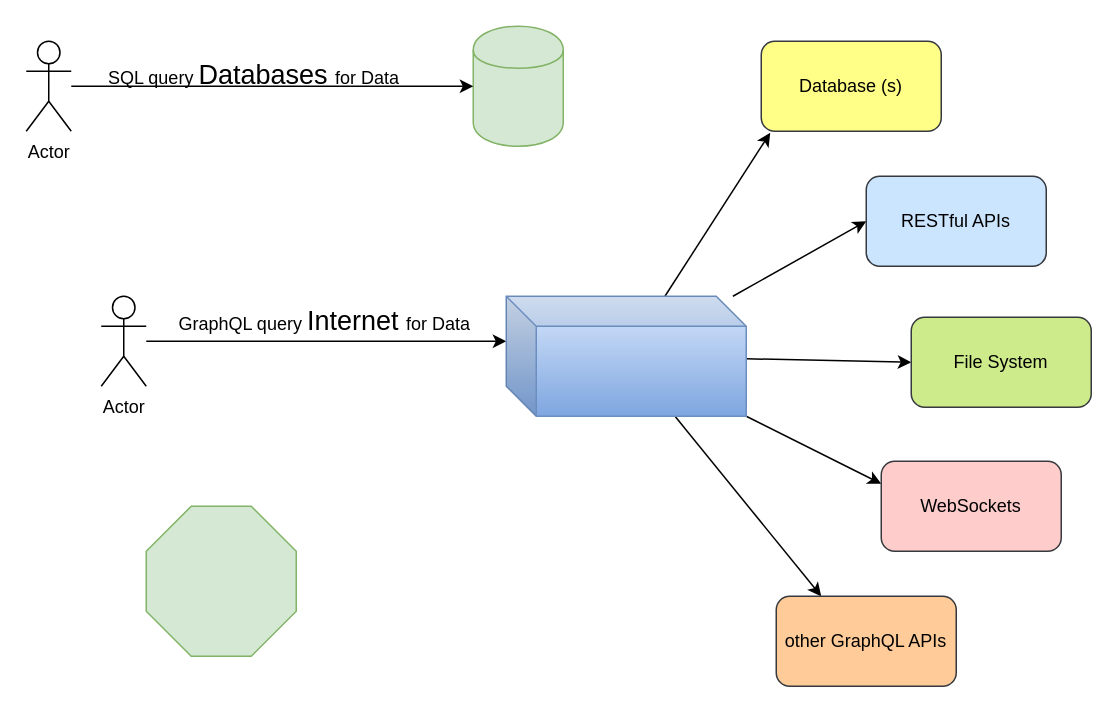
Some shapes in this 1118 by 713 pixel diagram are drawn without their labels. Here are the shapes that lost their labels. From the top down, the centre of each, then its label:
At (x=517, y=85): "Database".
At (x=625, y=355): "GraphQL API ( Schema & Resolvers)".
At (x=220, y=580): "GraphQL query can send even using cURL command".
